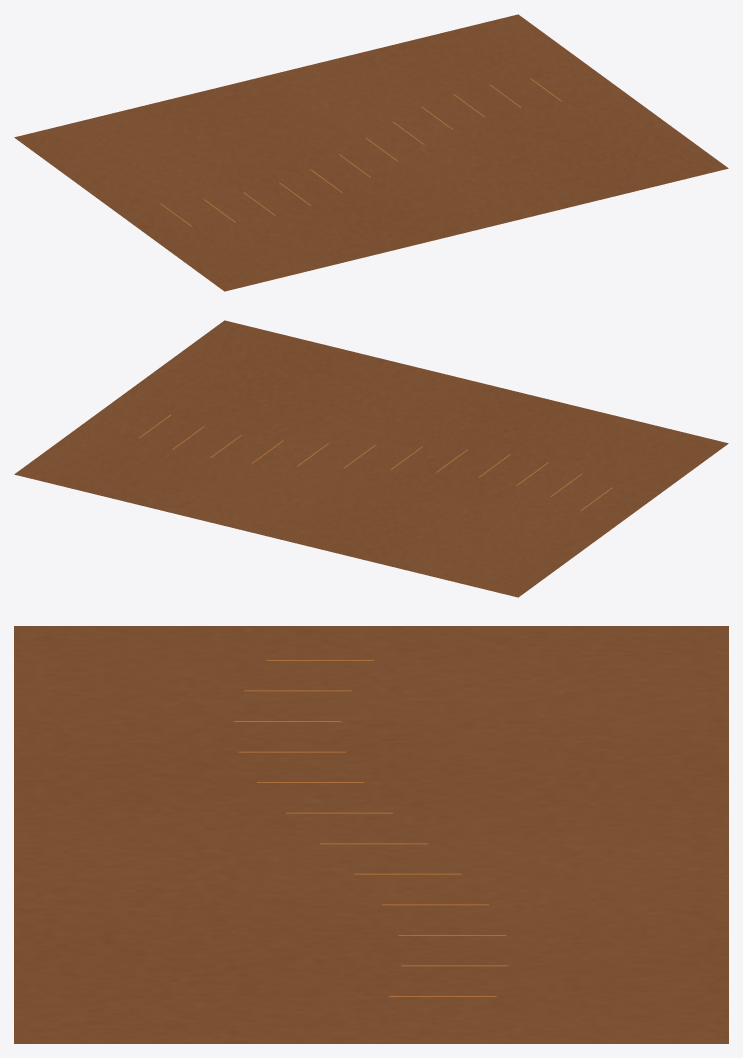
The model's file is 266_L120_L1_LayerReference.obj.
The picture shows the model from 3 angles, top to bottom: view 1: azimuth 30°, elevation 25°; view 2: azimuth 150°, elevation 25°; view 3: azimuth 270°, elevation 25°; orthographic projection. The views are drawn at different scales.
Visible parts, largest first — view 1: 266_L120_L1_LayerReference; view 2: 266_L120_L1_LayerReference; view 3: 266_L120_L1_LayerReference.
Part boxes in pixels (x1,y1,x2,y2): 266_L120_L1_LayerReference: (14,14,728,291); 266_L120_L1_LayerReference: (14,320,728,597); 266_L120_L1_LayerReference: (14,626,728,1043).
Size of the model in its own units: 0.506 by 0.000214 by 0.366.
Materials: 2 (2 with a texture image).
